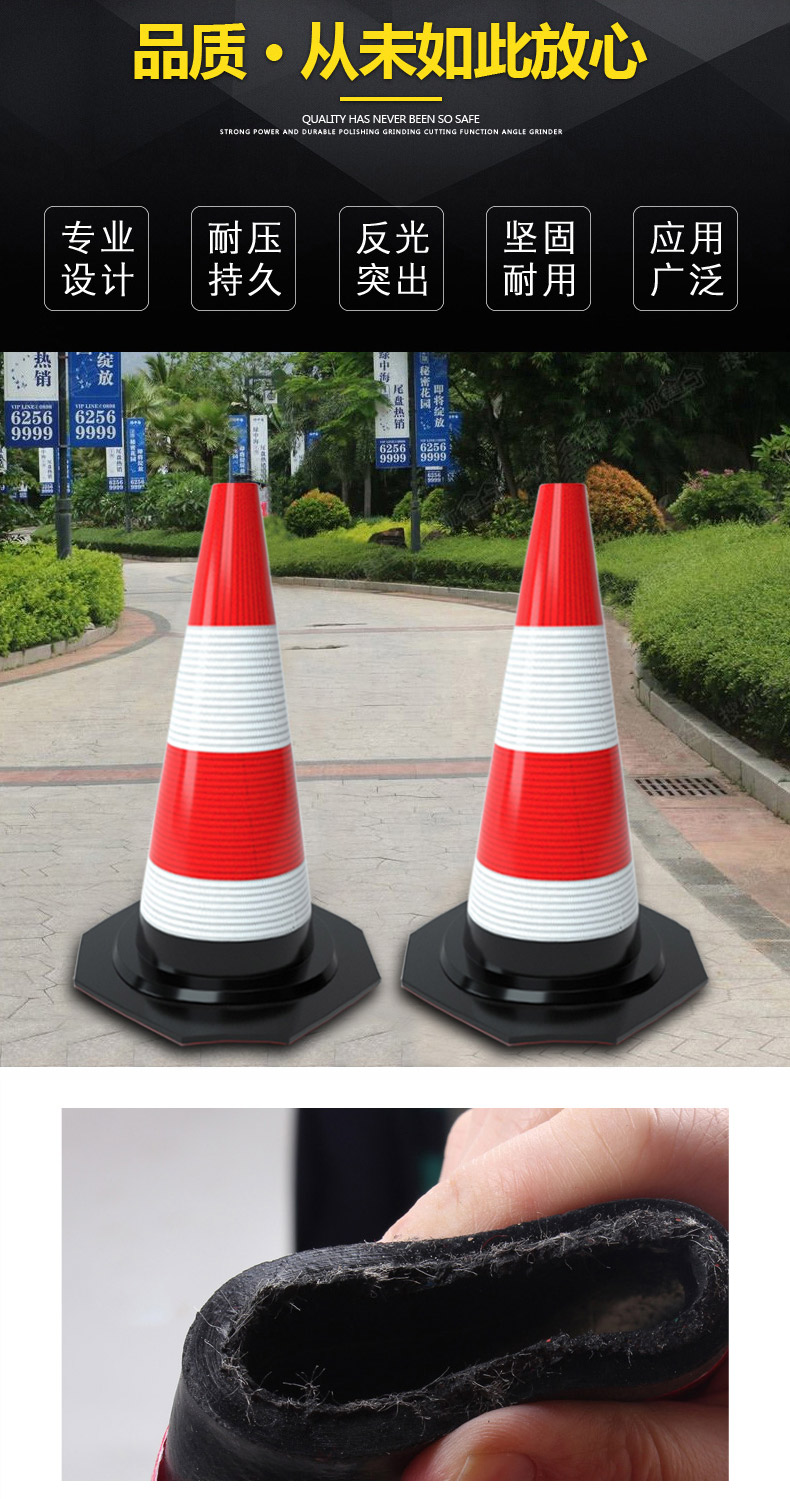traffic_cone: (53, 475, 375, 1050), (397, 478, 718, 1053)
